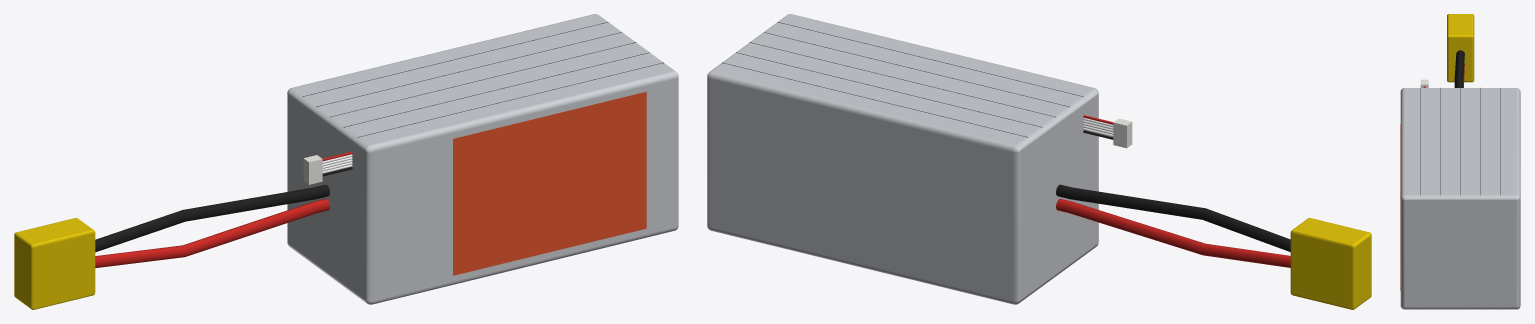
File: betafpv-lava-6s-1100.glb
3 renders of one model, left to right at view 1: azimuth 30°, elevation 25°; view 2: azimuth 150°, elevation 25°; view 3: azimuth 270°, elevation 25°, orthographic. The views are drawn at different scales.
Visible parts, largest first — view 1: body, label, connector, lead_red, lead_black, balance_plug; view 2: body, connector, lead_red, lead_black, balance_plug; view 3: body, connector, lead_black, label, cell_seam_1, cell_seam_2, cell_seam_3, cell_seam_4, cell_seam_5.
Boxes of the visible parts, x1=… form: body: x1=287, y1=14, x2=678, y2=304; label: x1=453, y1=91, x2=646, y2=275; connector: x1=14, y1=218, x2=95, y2=309; lead_red: x1=95, y1=198, x2=329, y2=267; lead_black: x1=95, y1=184, x2=329, y2=252; balance_plug: x1=303, y1=155, x2=322, y2=184; body: x1=707, y1=14, x2=1098, y2=304; connector: x1=1290, y1=218, x2=1371, y2=309; lead_red: x1=1056, y1=198, x2=1290, y2=267; lead_black: x1=1056, y1=184, x2=1290, y2=251; balance_plug: x1=1113, y1=118, x2=1132, y2=148; body: x1=1400, y1=88, x2=1520, y2=309; connector: x1=1447, y1=14, x2=1474, y2=82; lead_black: x1=1454, y1=50, x2=1464, y2=87; label: x1=1400, y1=124, x2=1400, y2=290; cell_seam_1: x1=1500, y1=88, x2=1500, y2=194; cell_seam_2: x1=1480, y1=88, x2=1480, y2=194; cell_seam_3: x1=1460, y1=88, x2=1460, y2=194; cell_seam_4: x1=1440, y1=88, x2=1440, y2=194; cell_seam_5: x1=1420, y1=88, x2=1420, y2=194.
Size of the model in its own units: 154 by 38.04 by 36.04.
